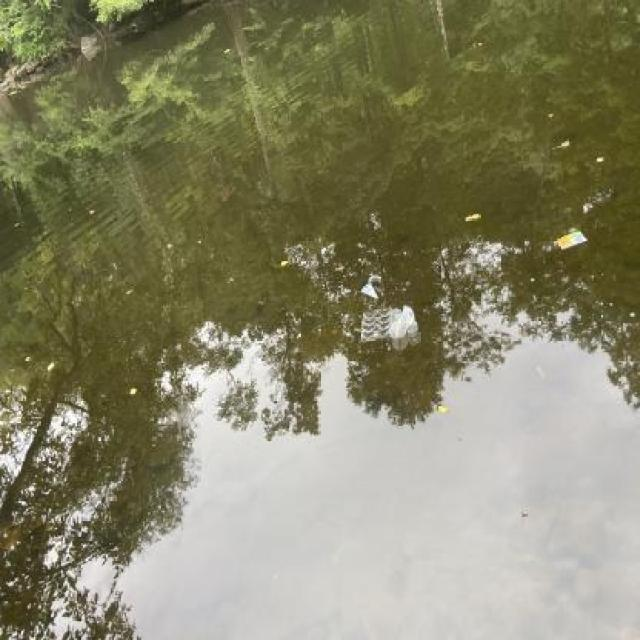Cardboard: (551, 227, 594, 256)
Plastic: (355, 304, 396, 348), (400, 297, 420, 340), (387, 304, 408, 342), (357, 279, 381, 303)
